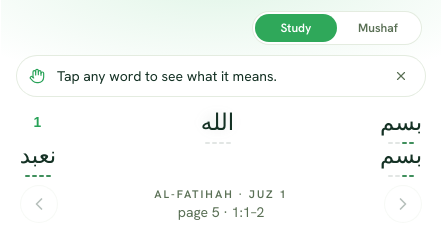
Test: Reader › dismissing the coach hint hides it and remembers it for next time
The width and height of the screenshot is (443, 237).
Click the button named "Dismiss tip". click: [401, 76]
box: x1=389 y1=64 x2=413 y2=88
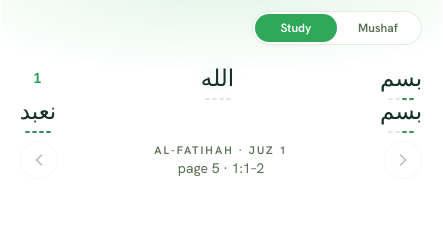
Result: the element with test id "reader-coach" is gone
